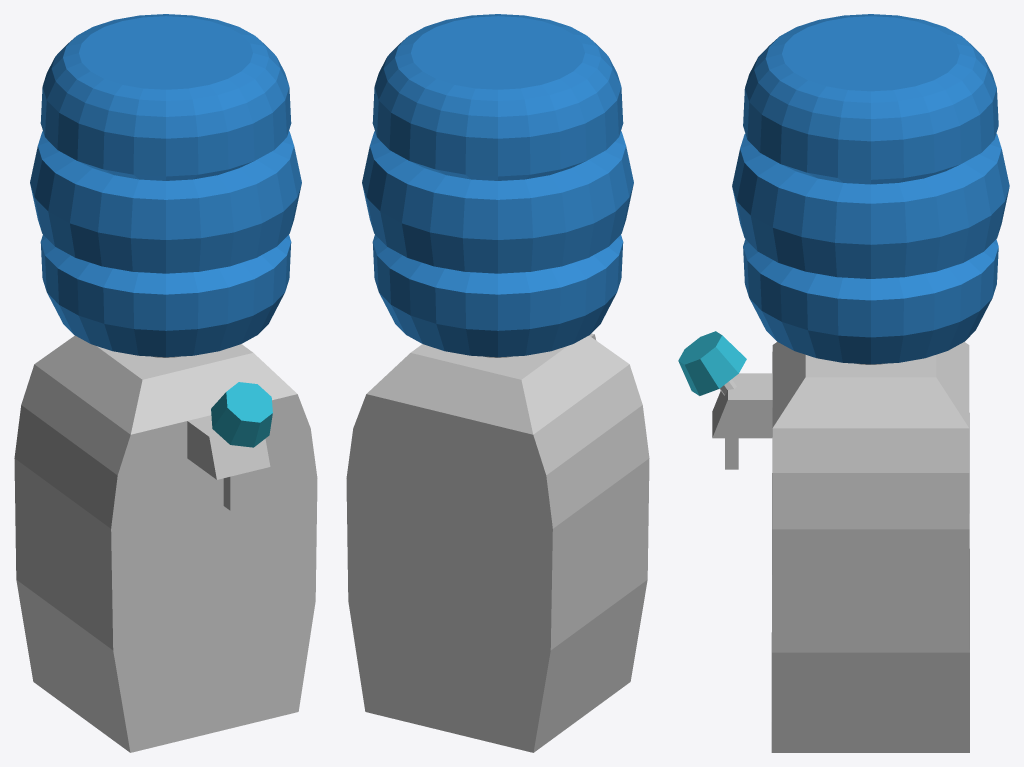
Rendered from Water tank.fbx.
The picture shows the model from 3 angles, left to right: view 1: azimuth 30°, elevation 25°; view 2: azimuth 150°, elevation 25°; view 3: azimuth 270°, elevation 25°; orthographic projection. The views are drawn at different scales.
Visible parts, largest first — view 1: Water tank; view 2: Water tank; view 3: Water tank.
Part boxes in pixels (x1,y1,x2,y2): Water tank: (14, 14, 317, 752); Water tank: (346, 14, 649, 752); Water tank: (678, 14, 1009, 752).
Bounding box in the file's own units: 0.4859 × 1.27 × 0.58.
